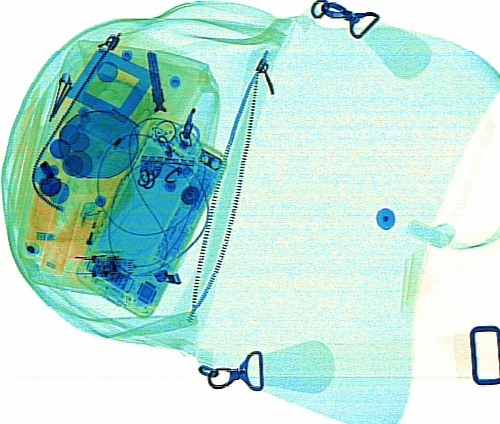lighter: (61, 197, 104, 276)
